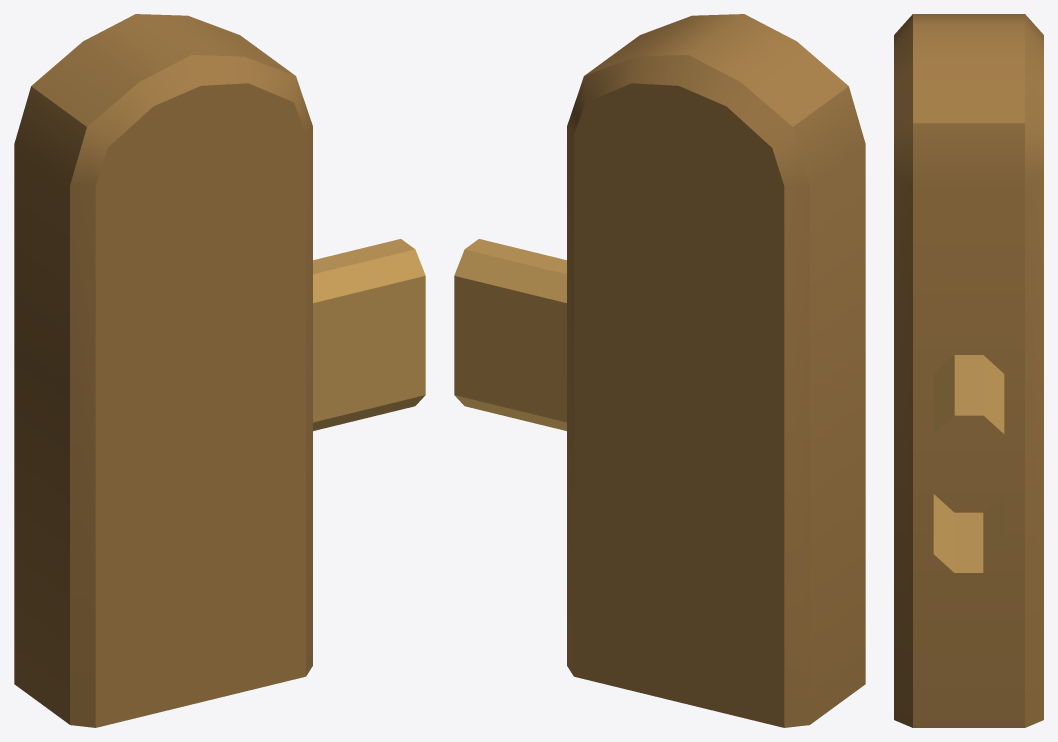
Rendered from Fence_1.gltf.
3 views of the same model, side by side, from view 1: azimuth 30°, elevation 25°; view 2: azimuth 150°, elevation 25°; view 3: azimuth 270°, elevation 25° (orthographic).
Visible parts, largest first — view 1: Fence_1; view 2: Fence_1; view 3: Fence_1.
Part boxes in pixels (x1,y1,x2,y2): Fence_1: [14, 14, 425, 727]; Fence_1: [454, 14, 865, 727]; Fence_1: [894, 14, 1043, 727].
Bounding box in the file's own units: 0.7482 × 1.25 × 0.2644.
